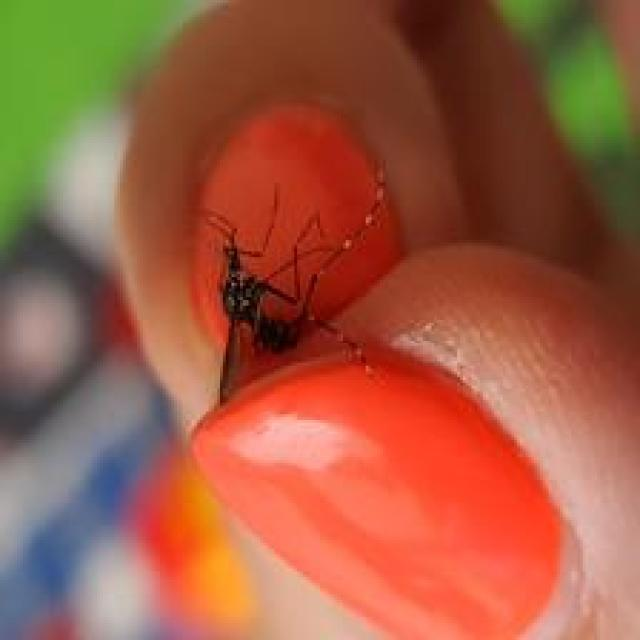Aedes albopictus: (197, 159, 392, 407)
